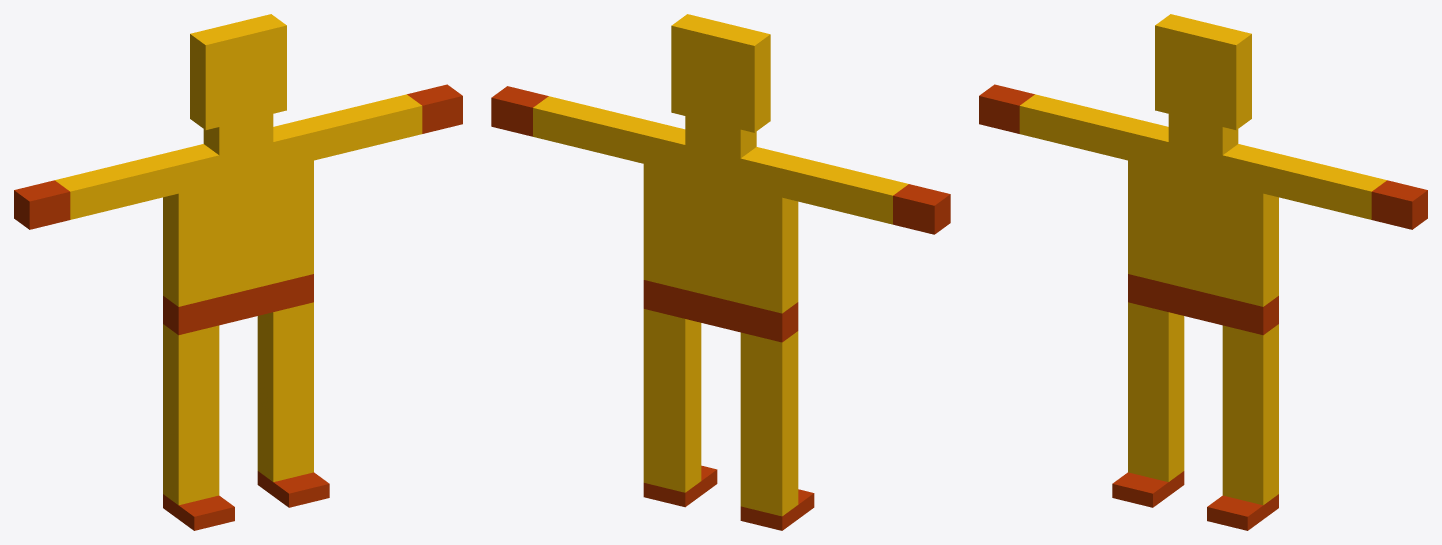
Rendered from OrangeyRAW.fbx.
The picture shows the model from 3 angles, left to right: view 1: azimuth 30°, elevation 25°; view 2: azimuth 150°, elevation 25°; view 3: azimuth 330°, elevation 25°; orthographic projection. The views are drawn at different scales.
Parts seen in each view (by area): view 1: block_default_7, block_default_16, block_default_4, block_default_5, block_default_8, block_default_6, block_default_2, block_default_3, block_default_9, block_default_12, block_default_10, block_default_13 (+5 smaller); view 2: block_default_7, block_default_16, block_default_4, block_default_5, block_default_8, block_default_6, block_default_2, block_default_3, block_default_13, block_default_10, block_default_9, block_default_12 (+5 smaller); view 3: block_default_7, block_default_16, block_default_5, block_default_4, block_default_8, block_default_6, block_default_3, block_default_2, block_default_13, block_default_10, block_default_12, block_default_9 (+5 smaller).
Boxes of the visible parts, bbox=[...] form: block_default_7: bbox=[163, 160, 313, 306]; block_default_16: bbox=[190, 14, 286, 129]; block_default_4: bbox=[163, 324, 219, 434]; block_default_5: bbox=[257, 302, 313, 411]; block_default_8: bbox=[163, 121, 313, 193]; block_default_6: bbox=[163, 274, 313, 335]; block_default_2: bbox=[257, 400, 313, 481]; block_default_3: bbox=[163, 423, 219, 505]; block_default_9: bbox=[298, 107, 368, 160]; block_default_12: bbox=[55, 167, 124, 219]; block_default_10: bbox=[353, 94, 422, 147]; block_default_13: bbox=[109, 154, 178, 206]; block_default_7: bbox=[643, 164, 798, 313]; block_default_16: bbox=[671, 14, 770, 132]; block_default_4: bbox=[740, 331, 798, 443]; block_default_5: bbox=[643, 309, 701, 420]; block_default_8: bbox=[643, 123, 797, 197]; block_default_6: bbox=[643, 280, 798, 342]; block_default_2: bbox=[643, 409, 701, 492]; block_default_3: bbox=[740, 432, 798, 516]; block_default_13: bbox=[782, 157, 853, 210]; block_default_10: bbox=[533, 96, 603, 149]; block_default_9: bbox=[588, 109, 659, 163]; block_default_12: bbox=[837, 170, 908, 224]; block_default_7: bbox=[1128, 160, 1278, 306]; block_default_16: bbox=[1155, 14, 1251, 129]; block_default_5: bbox=[1222, 324, 1278, 434]; block_default_4: bbox=[1128, 302, 1184, 411]; block_default_8: bbox=[1128, 121, 1278, 193]; block_default_6: bbox=[1128, 274, 1278, 335]; block_default_3: bbox=[1128, 400, 1184, 481]; block_default_2: bbox=[1222, 423, 1278, 505]; block_default_13: bbox=[1073, 107, 1143, 160]; block_default_10: bbox=[1317, 167, 1386, 219]; block_default_12: bbox=[1019, 94, 1088, 147]; block_default_9: bbox=[1263, 154, 1332, 206].
Size of the model in its own units: 32 by 33 by 4.
